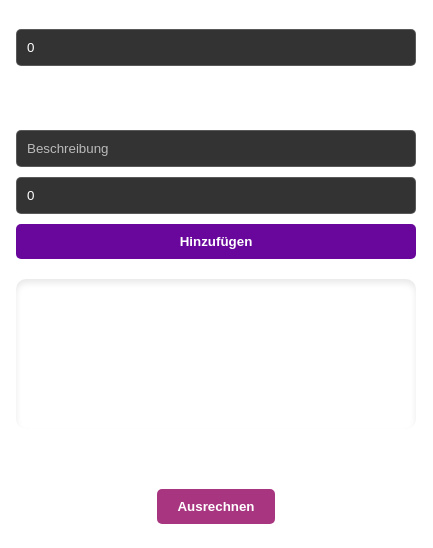
Test: BudgetPlaner Functions › should add a new cost entry and display it with the correct remaining budget
The width and height of the screenshot is (433, 548).
// Setze das Gesamtbudget
Replace the text in the number field with id "totalBudget" with "100" at (216, 47), box [16,28,416,66]
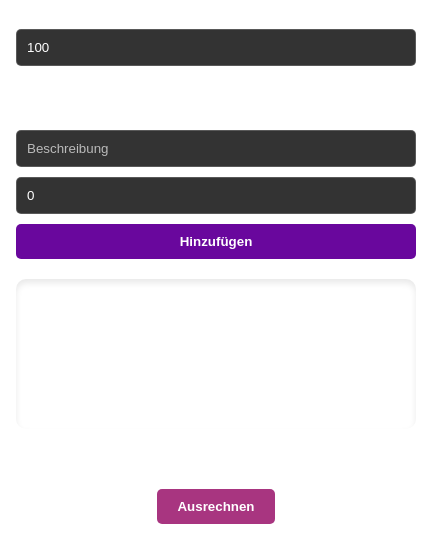
// Werte setzen und hinzufügen klicken
Type "Essen" into the field with placeholder "Beschreibung" at (216, 148), box [16,130,416,166]
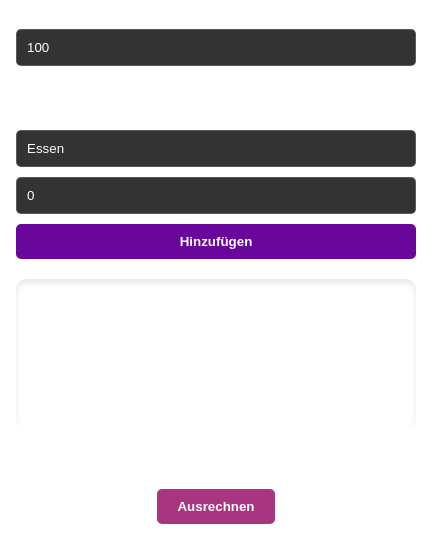
Replace the text in the 2nd number field with "50" at (216, 195), box [16,176,416,214]
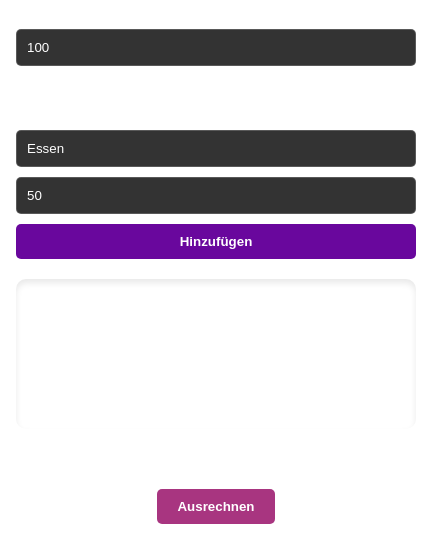
Click the button with class "add-btn" at (216, 241), box [16,224,416,258]
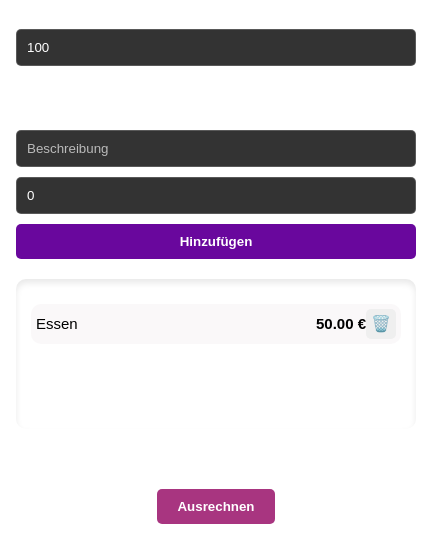
Expected: the number of list items with class "cost-item" is 1, [31,304,401,344]
Expected: the text "Essen" is shown, [36,314,78,332]
Expected: the text "50.00 €" is shown, [316,314,366,332]
// Berechnung auslösen
Click the button with class "calculate-btn" at (216, 506), box [158,488,274,524]
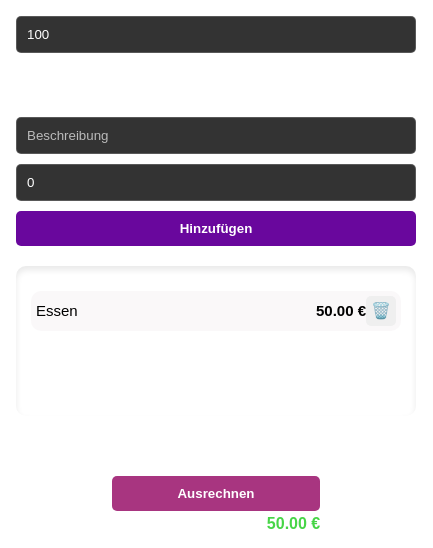
Expected: the text "50.00 €" is shown, [316,302,366,319]
Expected: the text "Verbleibendes Budget:" is shown, [112,515,267,532]
